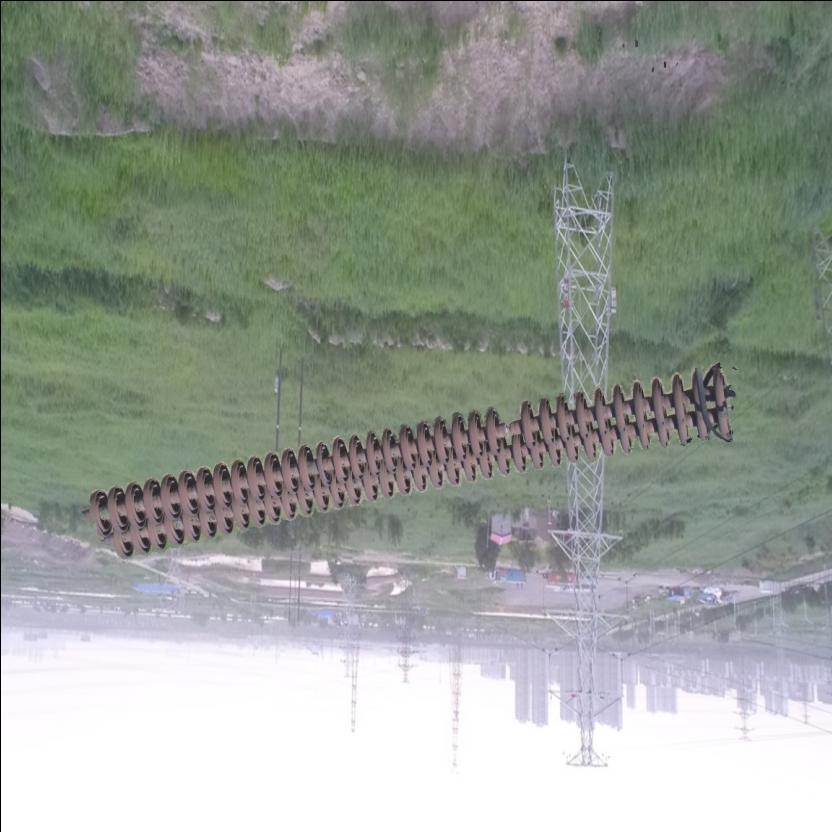defect: (478, 401, 536, 459)
